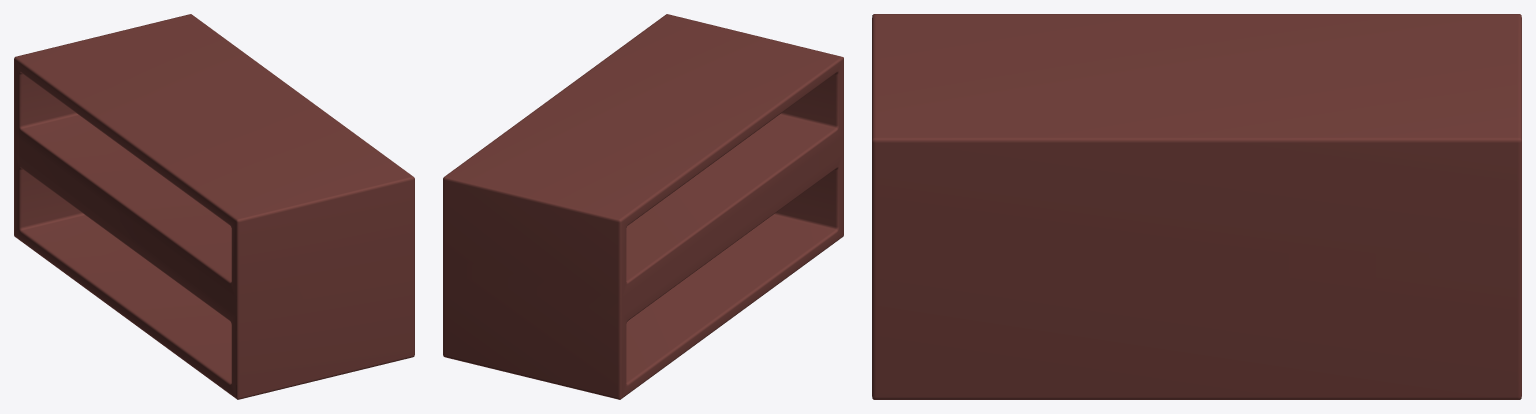
The model's file is tv_furniture.glb.
3 views of the same model, side by side, from view 1: azimuth 30°, elevation 25°; view 2: azimuth 150°, elevation 25°; view 3: azimuth 270°, elevation 25° (orthographic). The views are drawn at different scales.
Visible parts, largest first — view 1: TVFurniture; view 2: TVFurniture; view 3: TVFurniture.
Boxes of the visible parts, x1,y1,x2,y2 form: TVFurniture: (14,14,414,399); TVFurniture: (443,14,843,399); TVFurniture: (872,14,1521,399).
Bounding box in the file's own units: 0.5518 × 0.5336 × 1.2.
1 material, 1 textured.
